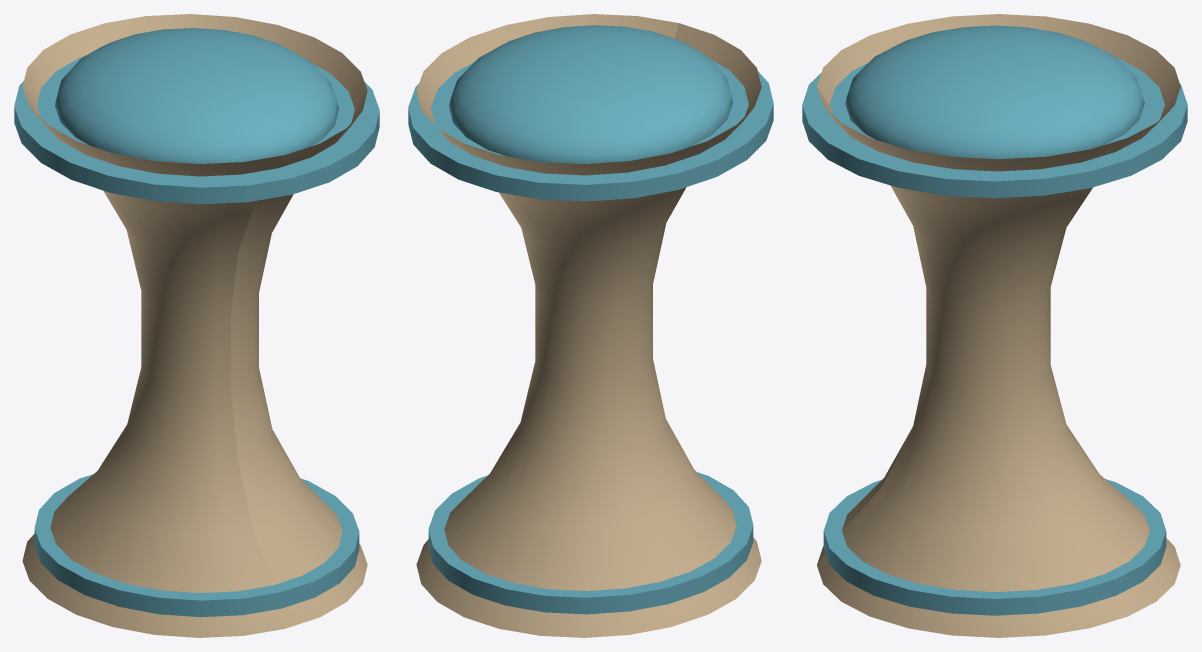
The model's file is left_digit_3_distal.glb.
The picture shows the model from 3 angles, left to right: view 1: azimuth 30°, elevation 25°; view 2: azimuth 150°, elevation 25°; view 3: azimuth 270°, elevation 25°; orthographic projection.
Visible parts, largest first — view 1: left_digit_3_distal:diaphysis, left_digit_3_distal:proximal-envelope, left_digit_3_distal:proximal-epiphyseal-plate, left_digit_3_distal:distal-epiphyseal-plate; view 2: left_digit_3_distal:diaphysis, left_digit_3_distal:proximal-envelope, left_digit_3_distal:proximal-epiphyseal-plate, left_digit_3_distal:distal-epiphyseal-plate; view 3: left_digit_3_distal:diaphysis, left_digit_3_distal:proximal-envelope, left_digit_3_distal:proximal-epiphyseal-plate, left_digit_3_distal:distal-epiphyseal-plate.
Boxes of the visible parts, bbox=[...] form: left_digit_3_distal:diaphysis: bbox=[22, 14, 367, 637]; left_digit_3_distal:proximal-envelope: bbox=[55, 28, 338, 163]; left_digit_3_distal:proximal-epiphyseal-plate: bbox=[14, 55, 379, 204]; left_digit_3_distal:distal-epiphyseal-plate: bbox=[34, 474, 359, 617]; left_digit_3_distal:diaphysis: bbox=[416, 14, 761, 637]; left_digit_3_distal:proximal-envelope: bbox=[449, 25, 732, 163]; left_digit_3_distal:proximal-epiphyseal-plate: bbox=[408, 59, 773, 201]; left_digit_3_distal:distal-epiphyseal-plate: bbox=[428, 472, 753, 614]; left_digit_3_distal:diaphysis: bbox=[817, 14, 1180, 637]; left_digit_3_distal:proximal-envelope: bbox=[845, 25, 1144, 159]; left_digit_3_distal:proximal-epiphyseal-plate: bbox=[802, 57, 1187, 198]; left_digit_3_distal:distal-epiphyseal-plate: bbox=[823, 479, 1166, 615].
Size of the model in its own units: 0.0255 by 0.042 by 0.027.
